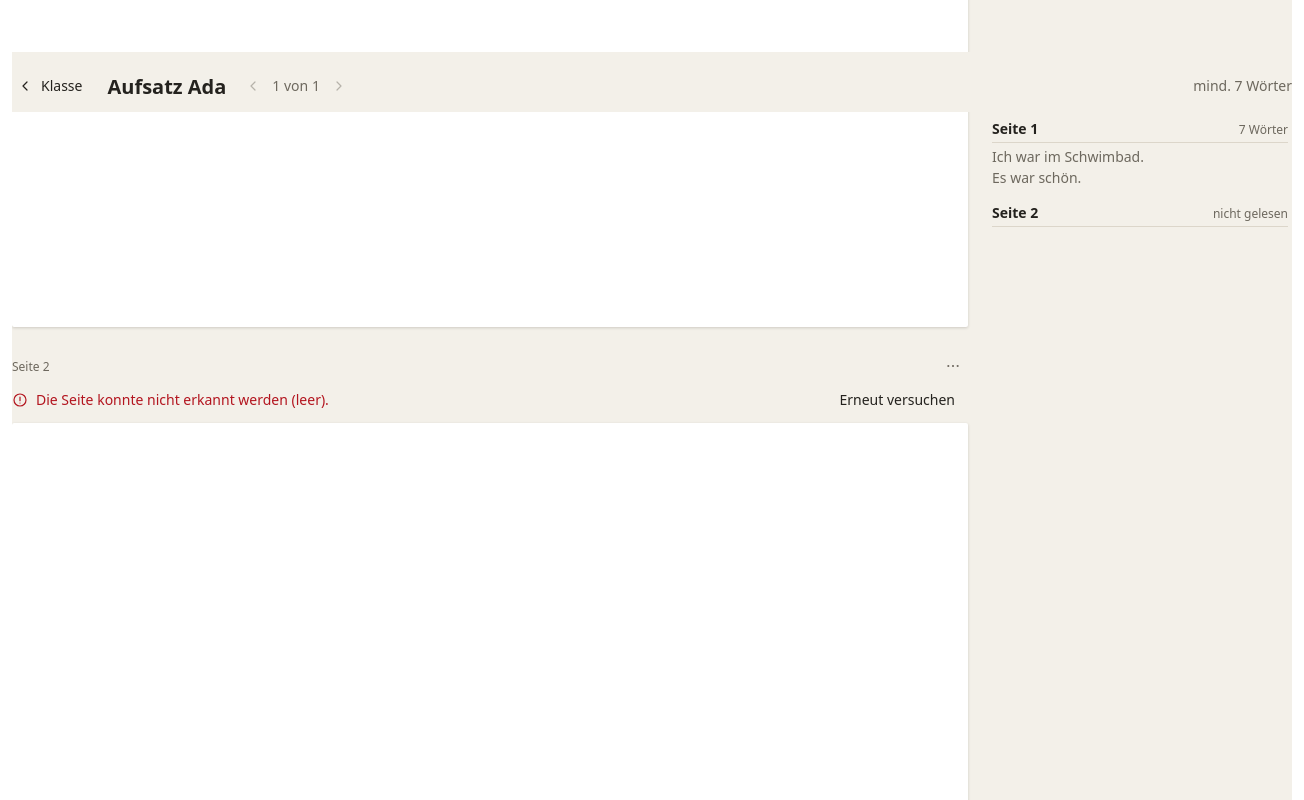
Scenario: an Arbeit whose words were only counted › marks a partial count and offers to retry the failed page at the page
(page scrolled)
Expected: the text with class "detail-figures" reads "mind. 7 Wörter", [1193, 76, 1292, 95]
Expected: the element with class "sheet-problem" shows "Die Seite konnte nicht erkannt werden", [36, 390, 329, 409]
Click the button "Erneut versuchen" at [897, 400], box [826, 385, 968, 415]
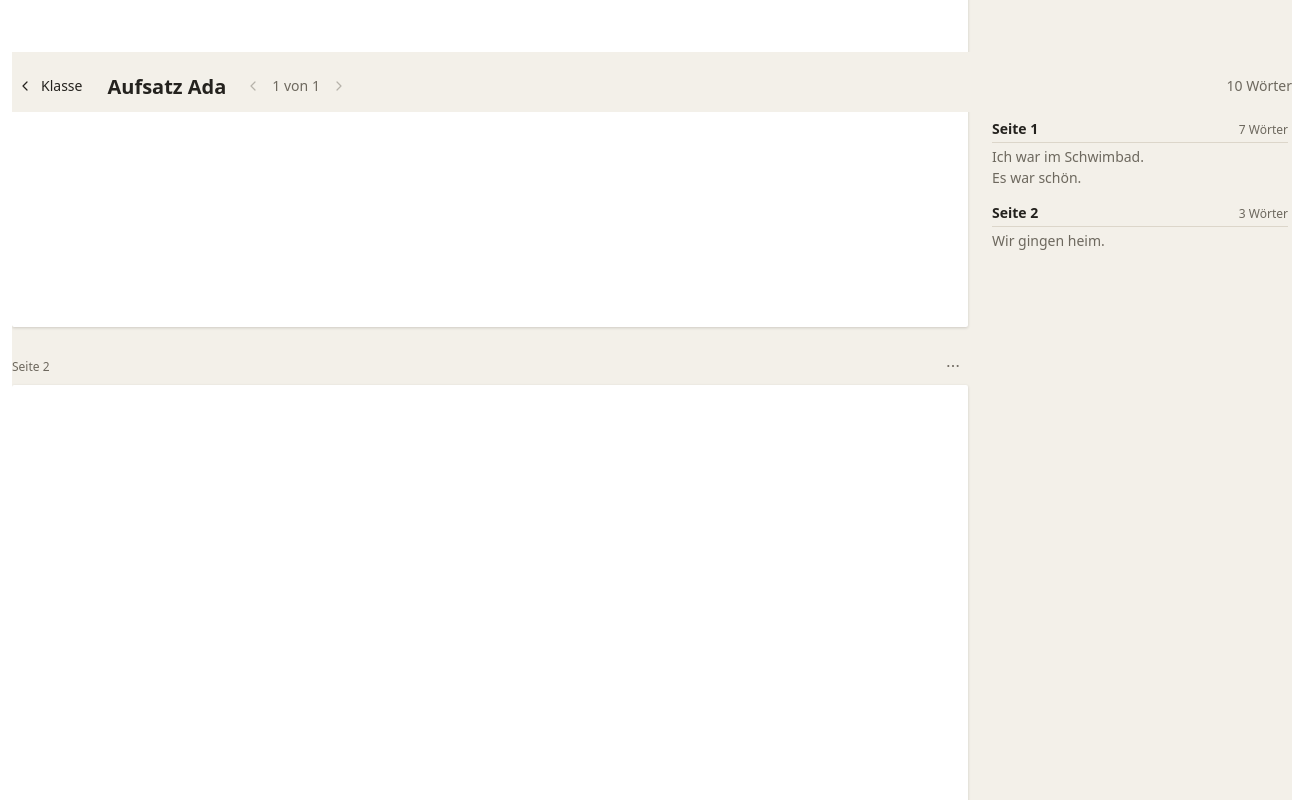
Now the text with class "detail-figures" reads "10 Wörter", box [1227, 76, 1292, 95]
Now the element with class "sheet-problem" is gone
